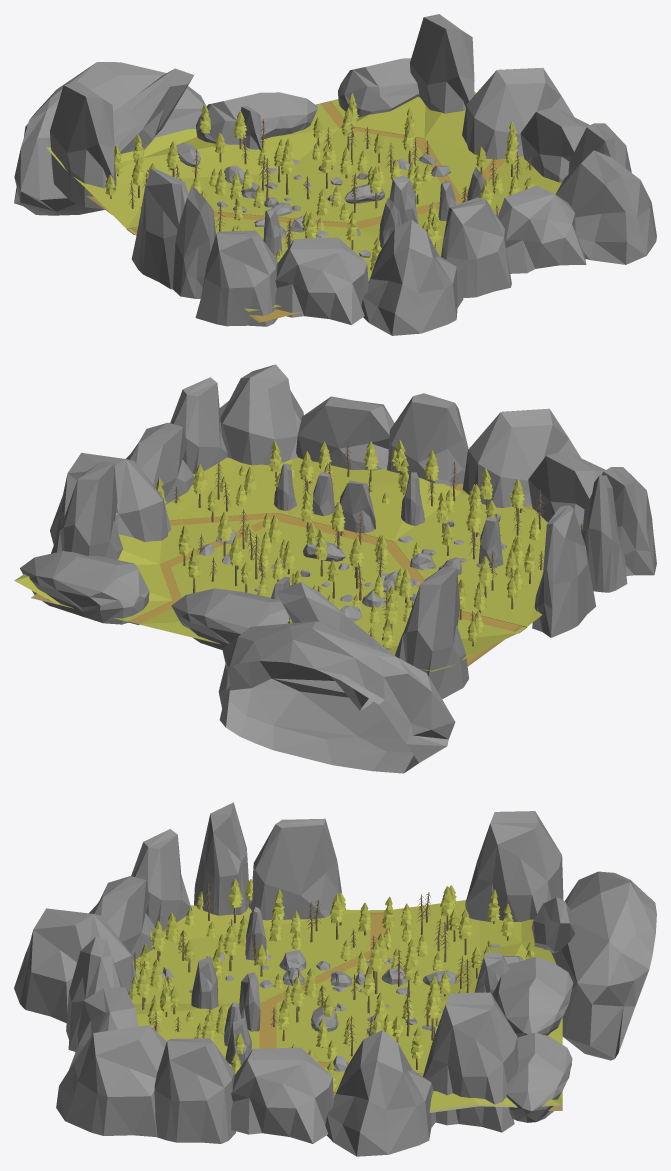
Rendered from Forest.fbx.
3 renders of one model, top to bottom at view 1: azimuth 30°, elevation 25°; view 2: azimuth 150°, elevation 25°; view 3: azimuth 270°, elevation 25°, orthographic. The views are drawn at different scales.
Parts seen in each view (by area): view 1: Plane, rock_pilar_ 10, Rock_ 1, rock_pilar_, rock_pilar_ 9, rock_pilar_ 3, rock_pilar_ 8, rock_pilar_ 7, rock_pilar_ 2, rock_pilar_ 1, rock_pilar_32, rock_pilar_2 (+13 smaller); view 2: Plane, Rock_ 1, Rock_32, rock_pilar_ 10, rock_pilar_, rock_pilar_ 3, rock_pilar_2, rock_pilar_ 2, rock_pilar_ 1, rock_pilar_ 7, rock_pilar_32, Rock_ (+12 smaller); view 3: Plane, Rock_ 1, rock_pilar_ 7, rock_pilar_32, rock_pilar_, rock_pilar_ 6, rock_pilar_ 3, rock_pilar_ 5, rock_pilar_2, rock_pilar_ 10, Rock_, rock_pilar_1 (+12 smaller).
Boxes of the visible parts, x1,y1,x2,y2 form: Plane: (46, 91, 561, 311); rock_pilar_ 10: (361, 220, 463, 335); Rock_ 1: (14, 62, 206, 215); rock_pilar_: (555, 150, 656, 264); rock_pilar_ 9: (275, 237, 368, 324); rock_pilar_ 3: (50, 82, 116, 209); rock_pilar_ 8: (195, 230, 277, 326); rock_pilar_ 7: (462, 68, 574, 159); rock_pilar_ 2: (497, 185, 586, 273); rock_pilar_ 1: (441, 197, 511, 297); rock_pilar_32: (410, 14, 474, 113); rock_pilar_2: (131, 168, 188, 289); Plane: (14, 457, 547, 671); Rock_ 1: (218, 621, 455, 773); Rock_32: (20, 551, 149, 624); rock_pilar_ 10: (462, 408, 580, 507); rock_pilar_: (219, 364, 303, 465); rock_pilar_ 3: (395, 566, 468, 699); rock_pilar_2: (532, 505, 595, 637); rock_pilar_ 2: (296, 396, 394, 470); rock_pilar_ 1: (386, 393, 468, 486); rock_pilar_ 7: (50, 453, 171, 544); rock_pilar_32: (51, 461, 123, 559); Rock_: (171, 588, 289, 661); Plane: (132, 898, 562, 1112); Rock_ 1: (551, 871, 656, 1060); rock_pilar_ 7: (325, 1030, 436, 1156); rock_pilar_32: (423, 992, 518, 1132); rock_pilar_: (56, 1025, 166, 1137); rock_pilar_ 6: (231, 1047, 333, 1143); rock_pilar_ 3: (465, 811, 563, 921); rock_pilar_ 5: (154, 1038, 236, 1143); rock_pilar_2: (251, 818, 345, 920); rock_pilar_ 10: (14, 908, 137, 1023); Rock_: (492, 957, 573, 1037); rock_pilar_1: (194, 802, 249, 915).
Bounding box in the file's own units: 16062 × 5439 × 17445.
